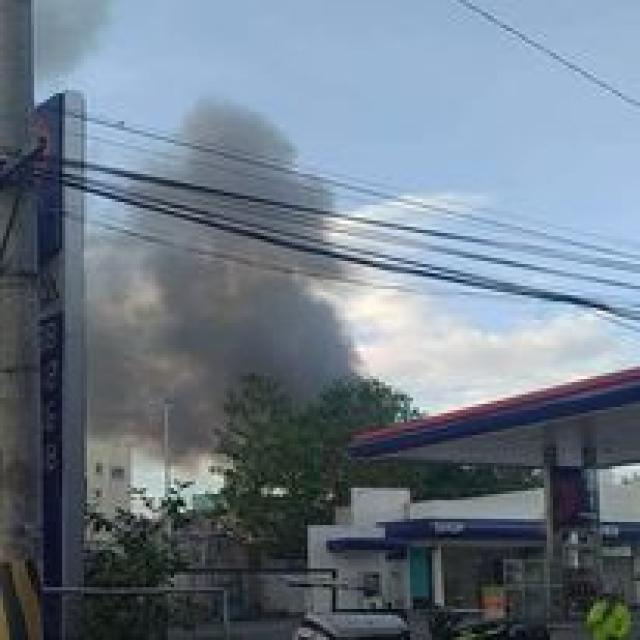Smoke: (98, 100, 376, 447)
